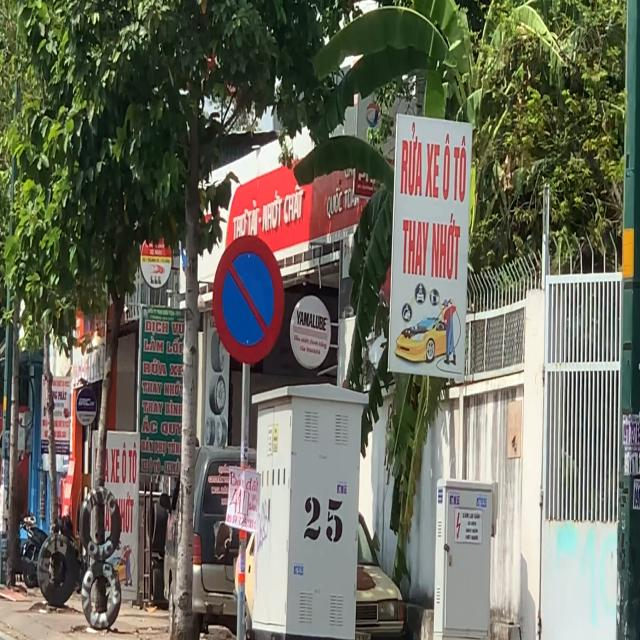Cam do: (212, 233, 286, 366)
